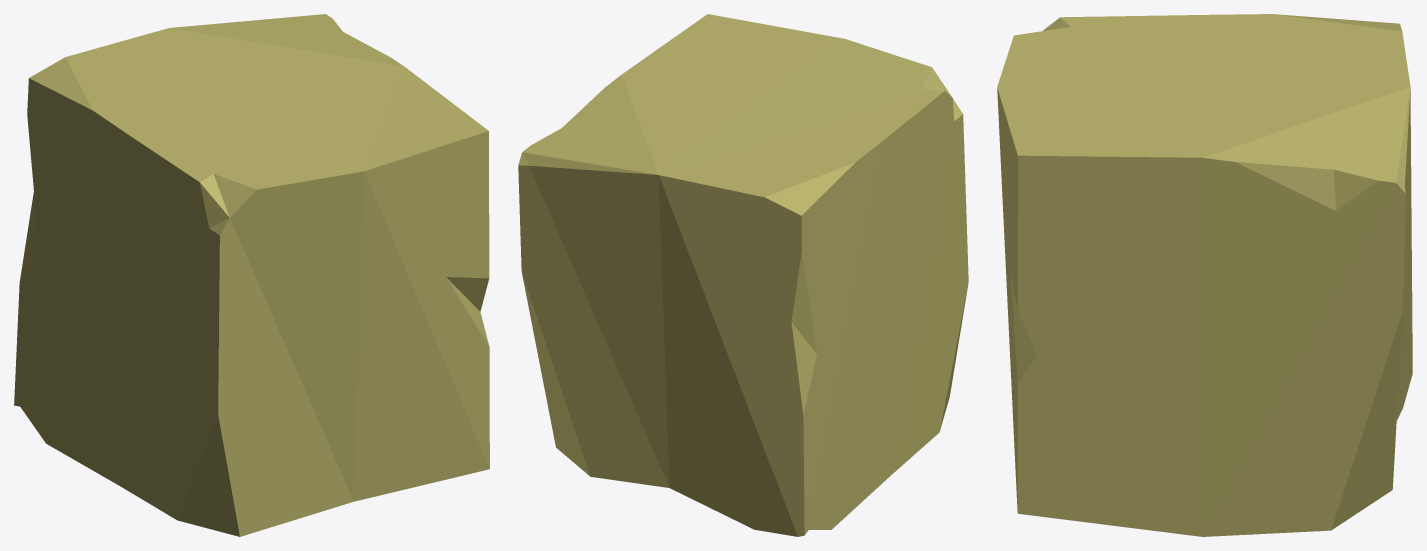
The model's file is Prop_Jungle_Temple_Pillar_Block_02.FBX.
The picture shows the model from 3 angles, left to right: view 1: azimuth 30°, elevation 25°; view 2: azimuth 150°, elevation 25°; view 3: azimuth 270°, elevation 25°; orthographic projection. The views are drawn at different scales.
Visible parts, largest first — view 1: Prop_Jungle_Temple_Pillar_Block_02; view 2: Prop_Jungle_Temple_Pillar_Block_02; view 3: Prop_Jungle_Temple_Pillar_Block_02.
Part boxes in pixels (bbox=[...]): Prop_Jungle_Temple_Pillar_Block_02: bbox=[14, 14, 489, 536]; Prop_Jungle_Temple_Pillar_Block_02: bbox=[518, 14, 968, 536]; Prop_Jungle_Temple_Pillar_Block_02: bbox=[997, 14, 1412, 536].
Size of the model in its own units: 1997 by 2242 by 2237.
